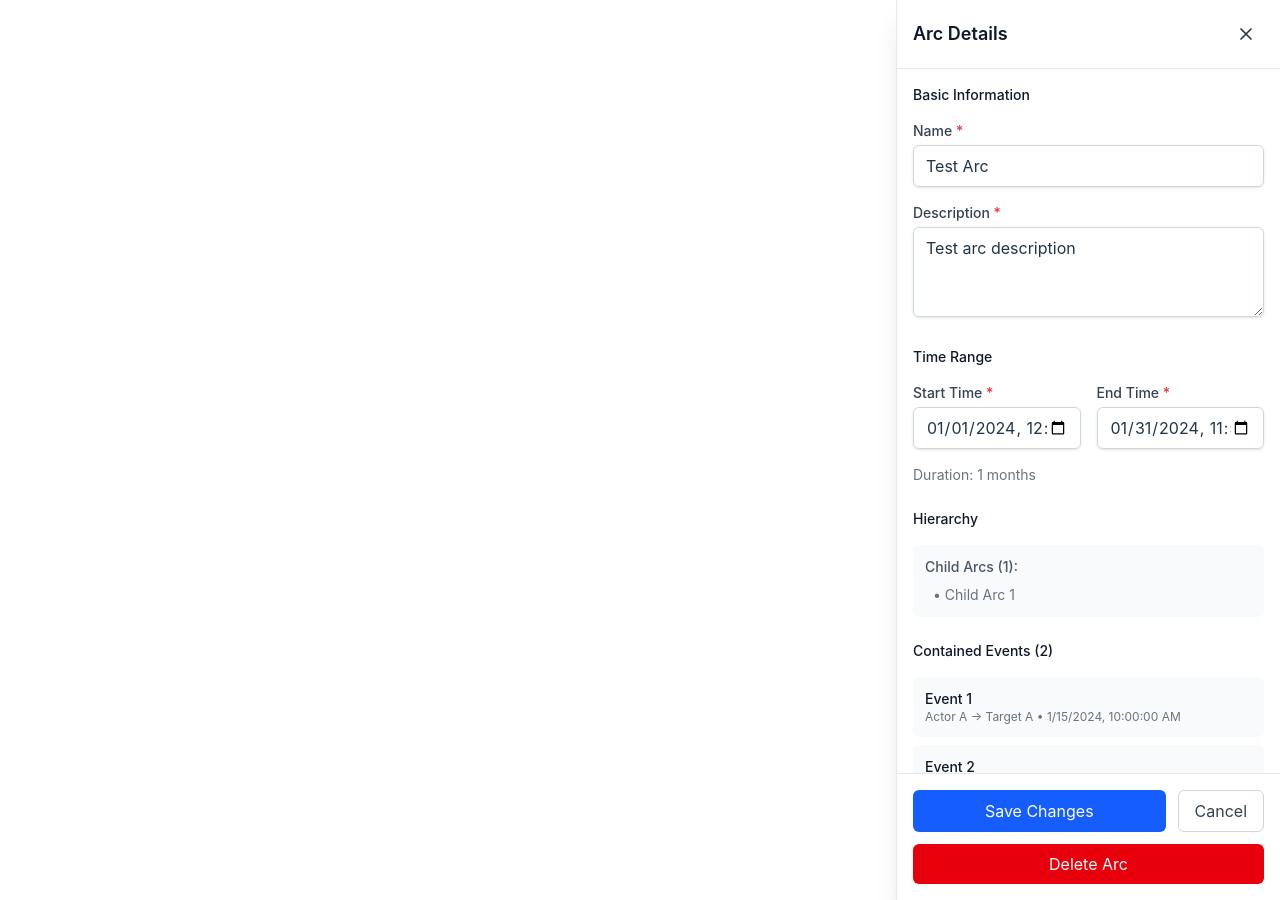
Test: Arc Creation and Editing › ArcDetailPanel › should validate time range
Expected: the field with id "arc-end-time" is shown, [1096, 407, 1264, 449]
Set end time before start time
Replace the text in the field with id "arc-start-time" with "2024-01-31T00:00" at (997,428), box [913, 407, 1080, 449]
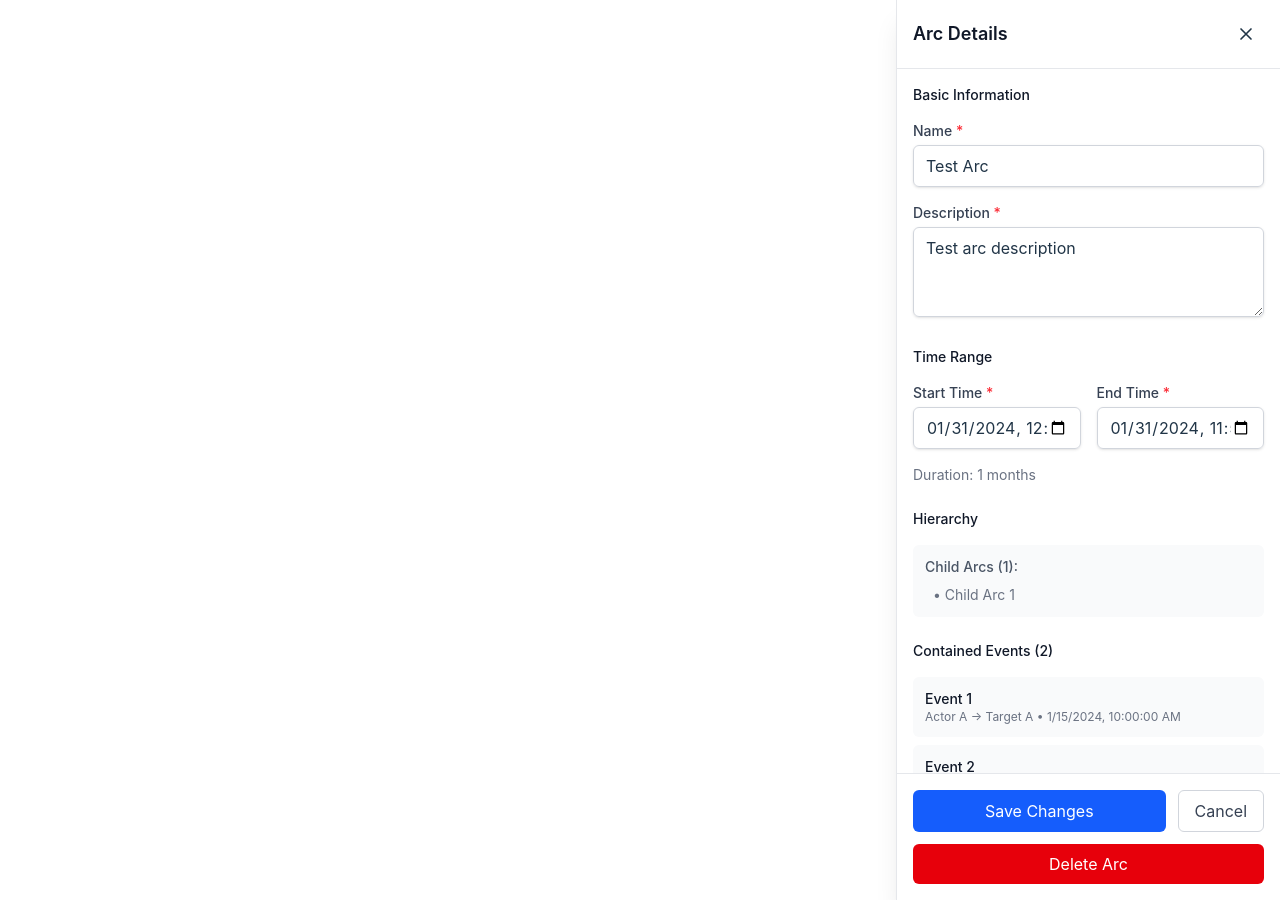
Replace the text in the field with id "arc-end-time" with "2024-01-01T00:00" at (1180,428), box [1096, 407, 1264, 449]
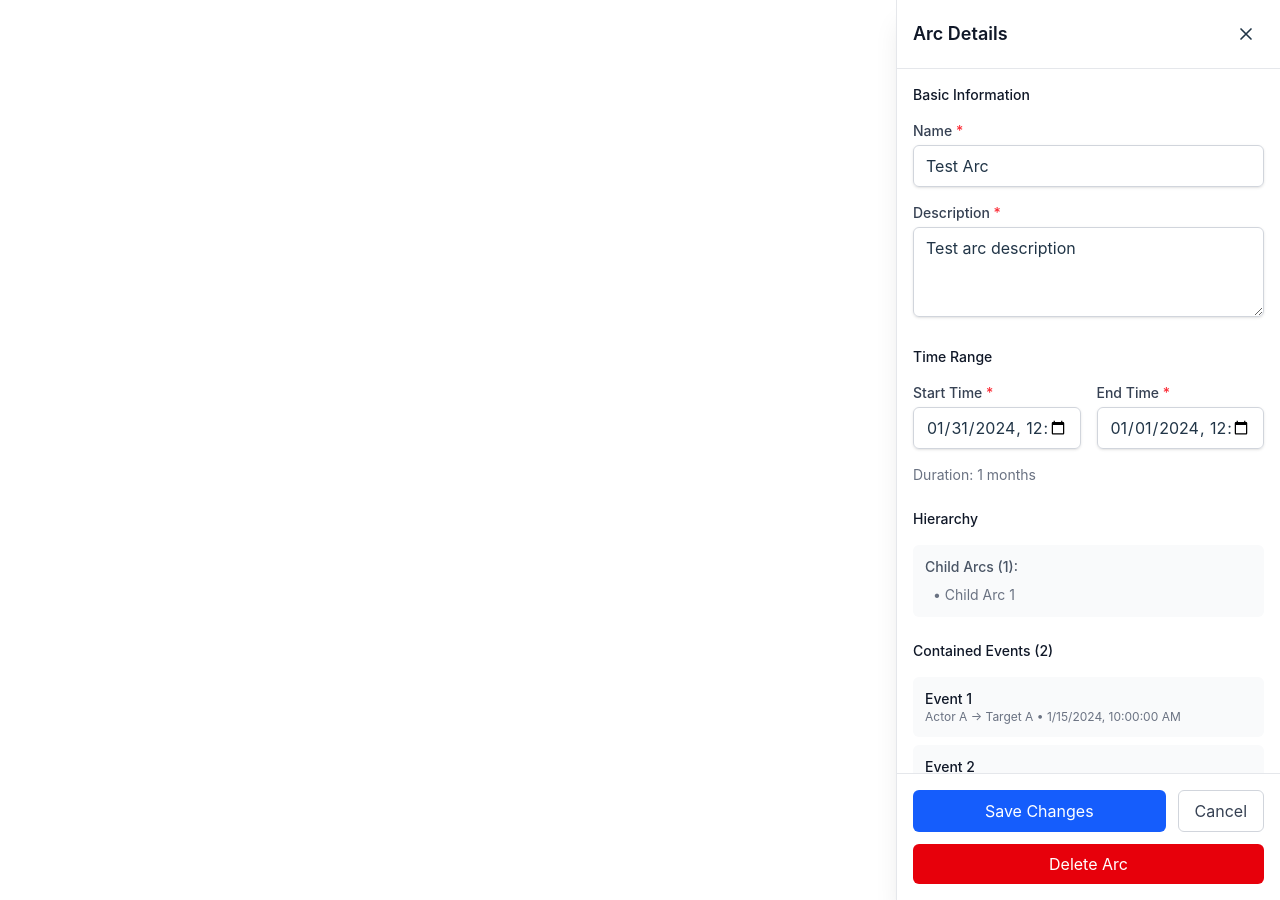
Click the button "Save Changes" at (1039,811), box [913, 790, 1166, 832]
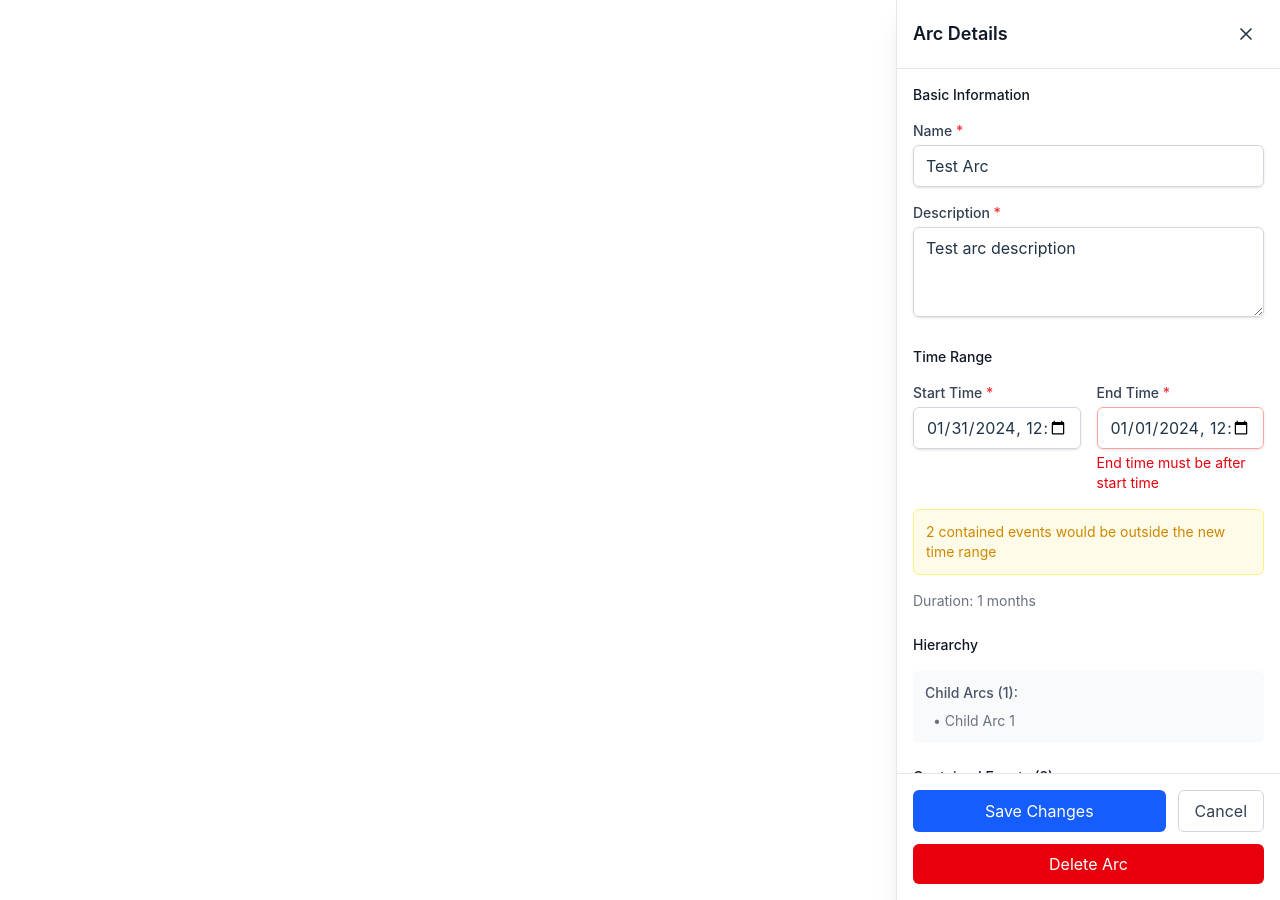
Now the text "End time must be after start time" is shown, box [1096, 453, 1264, 493]
